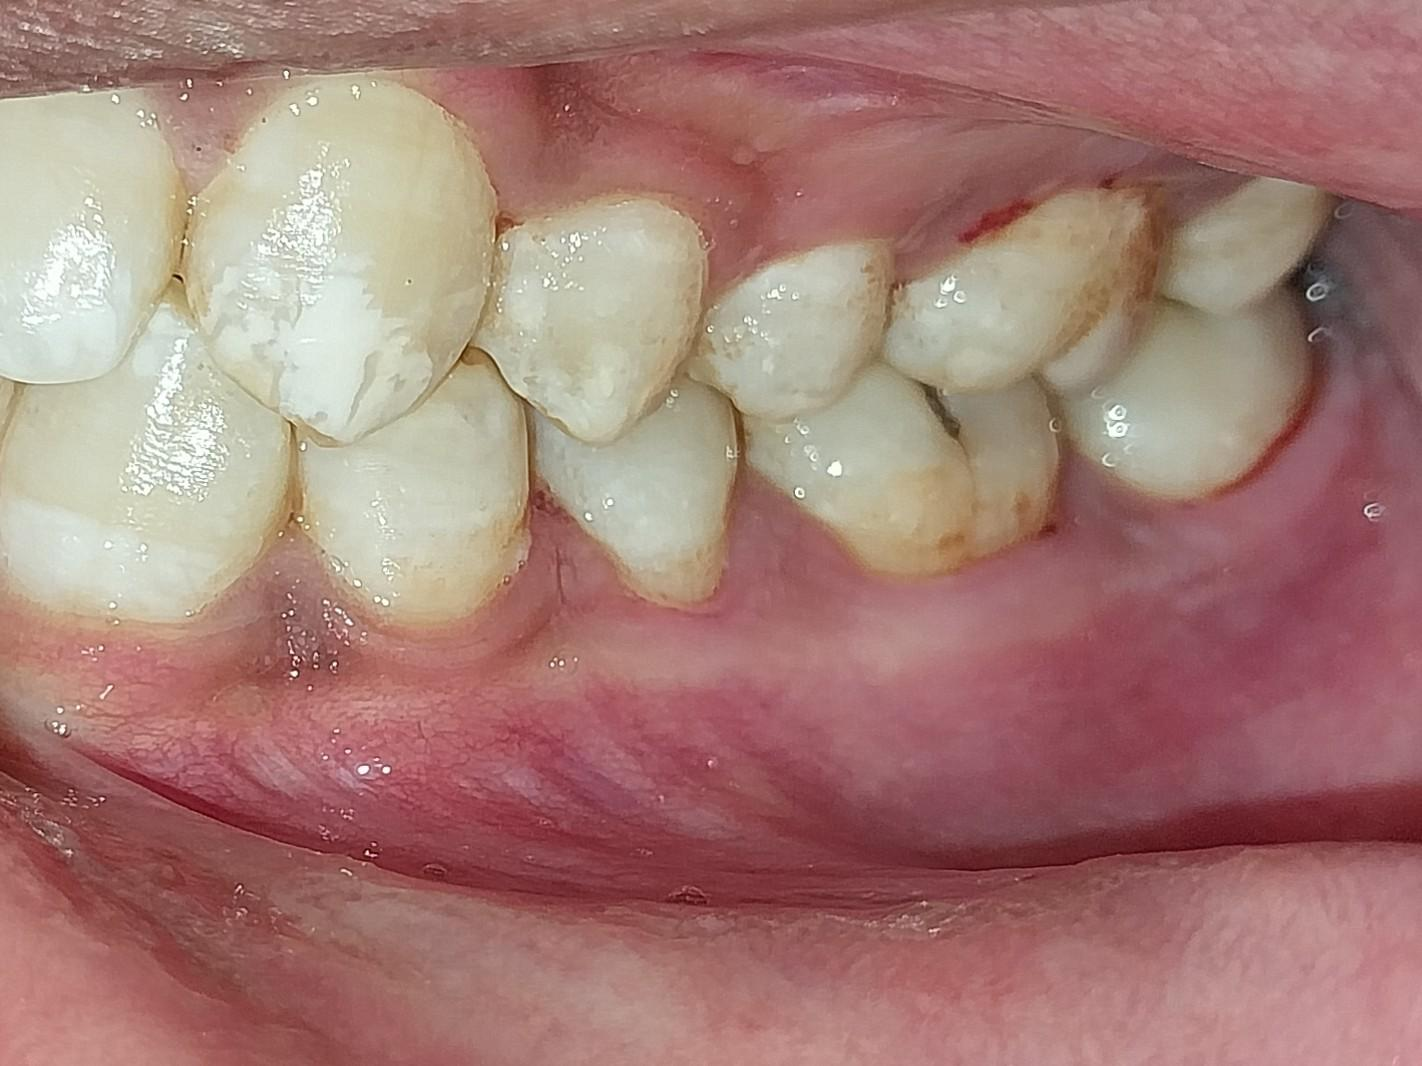D: (742, 378, 1067, 573)
